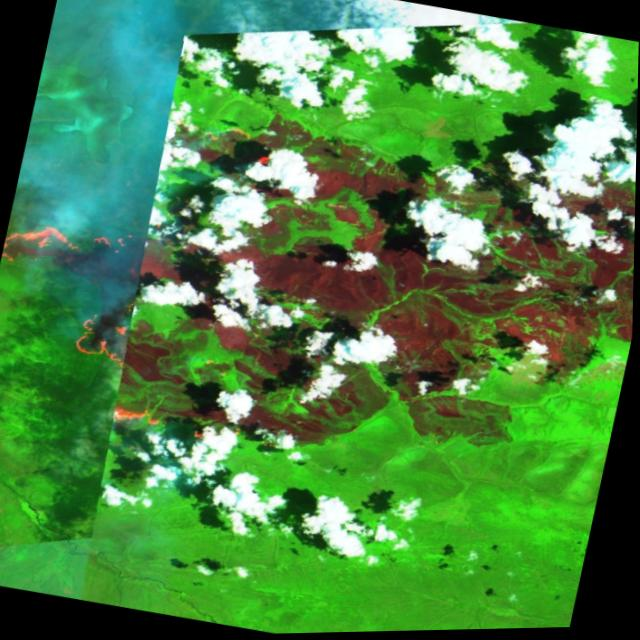fire: (0, 206, 142, 286), (201, 118, 289, 175), (189, 421, 291, 458), (66, 317, 136, 368), (101, 401, 171, 436)
